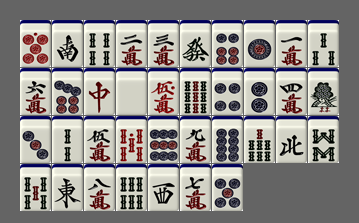0m: (148, 68, 179, 115)
0p: (20, 20, 51, 67)
0s: (116, 116, 147, 163)
1m: (276, 20, 307, 67)
1p: (244, 20, 275, 67)
1s: (308, 68, 339, 115)
1z: (52, 164, 83, 211)
2m: (116, 20, 147, 67)
2p: (244, 68, 275, 115)
2s: (52, 116, 83, 163)
2z: (52, 20, 83, 67)
3m: (148, 20, 179, 67)
3p: (20, 116, 51, 163)
3s: (308, 20, 339, 67)
3z: (148, 164, 179, 211)
4m: (276, 68, 307, 115)
4p: (212, 68, 243, 115)
4s: (84, 20, 115, 67)
4z: (276, 116, 307, 163)
5m: (84, 116, 115, 163)
5p: (212, 164, 243, 211)
5s: (20, 164, 51, 211)
5z: (116, 68, 147, 115)
6m: (20, 68, 51, 115)
6p: (212, 20, 243, 67)
6s: (116, 164, 147, 211)
6z: (180, 20, 211, 67)
7m: (180, 164, 211, 211)
7p: (52, 68, 83, 115)
7s: (244, 116, 275, 163)
7z: (84, 68, 115, 115)
8m: (84, 164, 115, 211)
8p: (212, 116, 243, 163)
8s: (308, 116, 339, 163)
9m: (180, 116, 211, 163)
9p: (148, 116, 179, 163)
9s: (180, 68, 211, 115)
